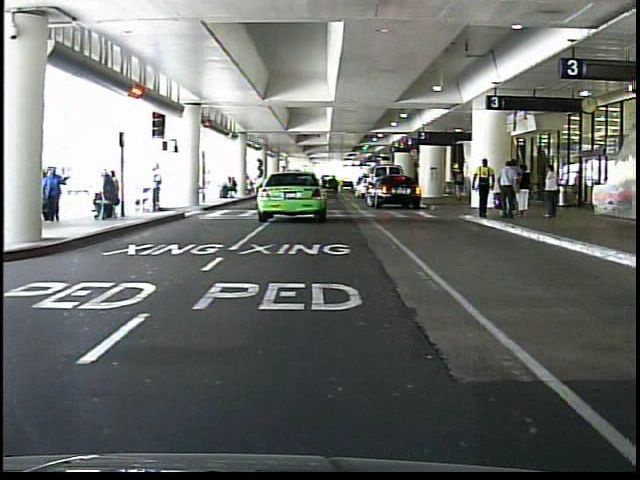person: (542, 161, 570, 229), (46, 163, 74, 225), (471, 156, 494, 225), (504, 156, 526, 224), (145, 163, 170, 219), (516, 160, 532, 218), (452, 164, 468, 207)
